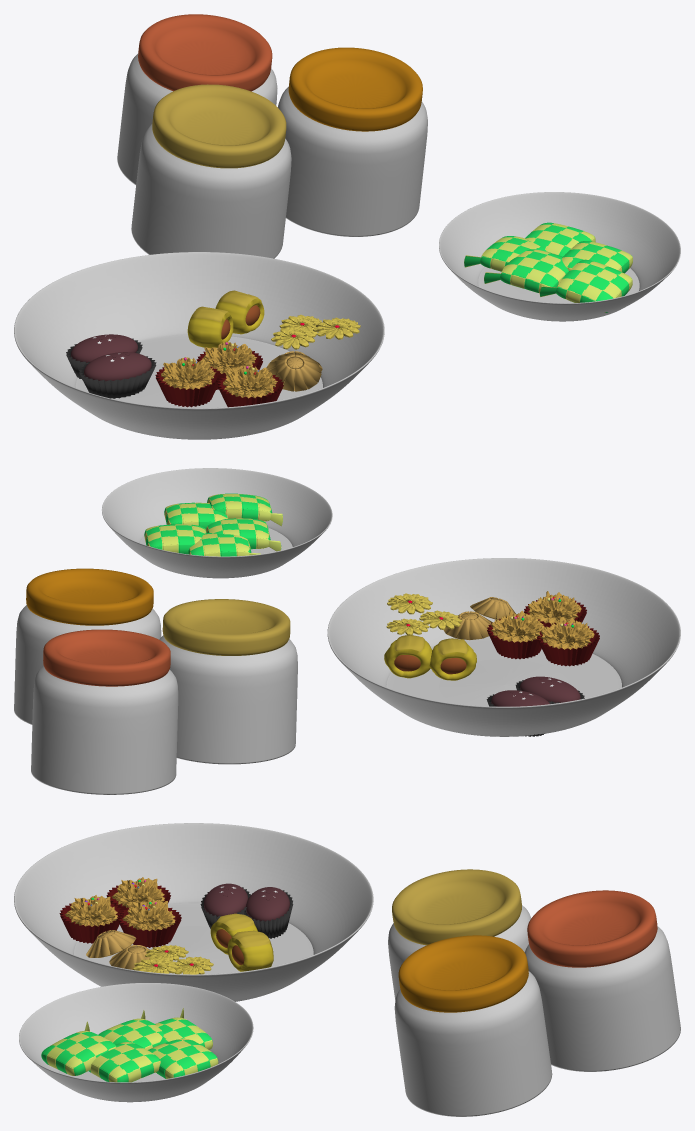
The model's file is plate 1.fbx.
The picture shows the model from 3 angles, top to bottom: view 1: azimuth 30°, elevation 25°; view 2: azimuth 150°, elevation 25°; view 3: azimuth 270°, elevation 25°; orthographic projection. The views are drawn at different scales.
Visible parts, largest first — view 1: Circle.001; view 2: Circle.001; view 3: Circle.001.
Boxes of the visible parts, x1=… form: Circle.001: x1=14, y1=14, x2=680, y2=439; Circle.001: x1=14, y1=468, x2=680, y2=794; Circle.001: x1=14, y1=823, x2=680, y2=1116.
Size of the model in its own units: 681 by 163 by 680.
